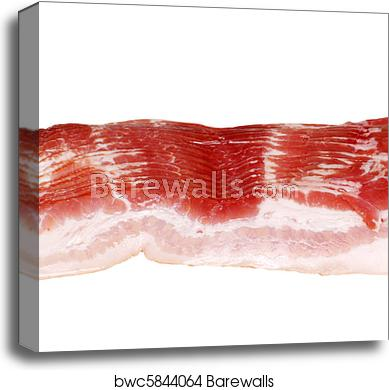bacon: (16, 117, 389, 282)
